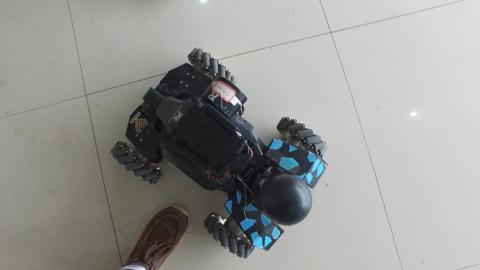chariot: (119, 47, 314, 241)
